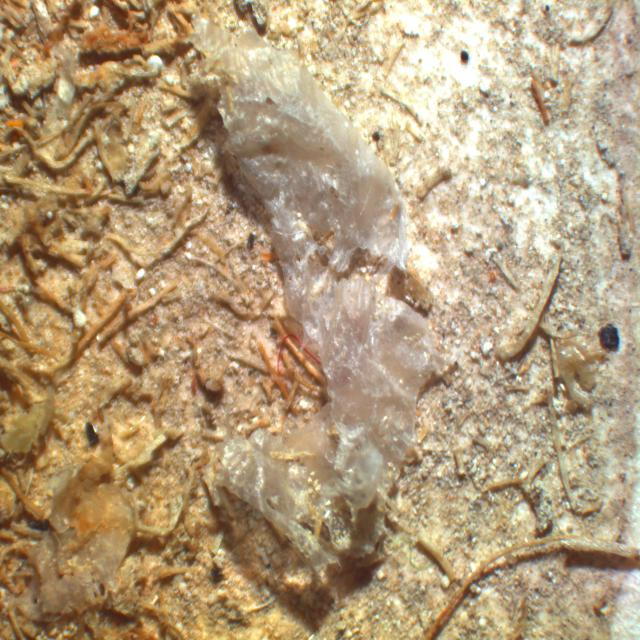microplastic: (150, 0, 461, 599)
